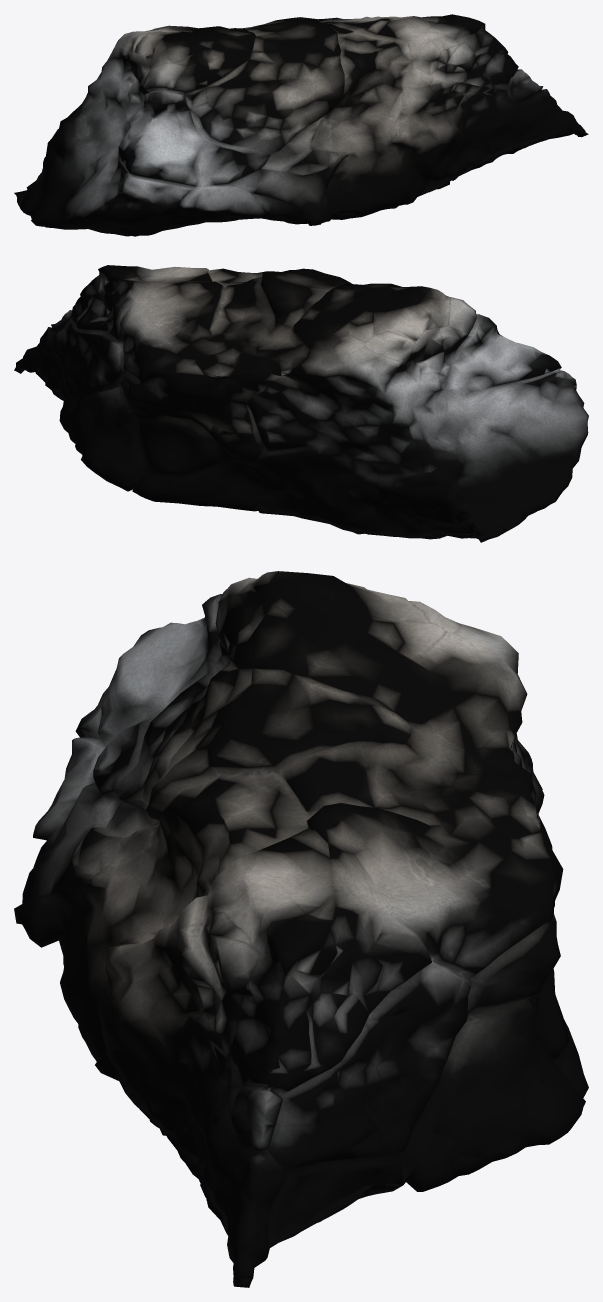
Rendered from boulder_b.opt.glb.
The picture shows the model from 3 angles, top to bottom: view 1: azimuth 30°, elevation 25°; view 2: azimuth 150°, elevation 25°; view 3: azimuth 270°, elevation 25°; orthographic projection. The views are drawn at different scales.
Parts seen in each view (by area): view 1: boulder_b; view 2: boulder_b; view 3: boulder_b.
Boxes of the visible parts, left/top/right/bottom form: boulder_b: left=14, top=14, right=588, bottom=236; boulder_b: left=14, top=265, right=588, bottom=542; boulder_b: left=14, top=571, right=588, bottom=1287.
Size of the model in its own units: 2.53 by 0.8708 by 1.24.
Materials: 1 (1 with a texture image).
